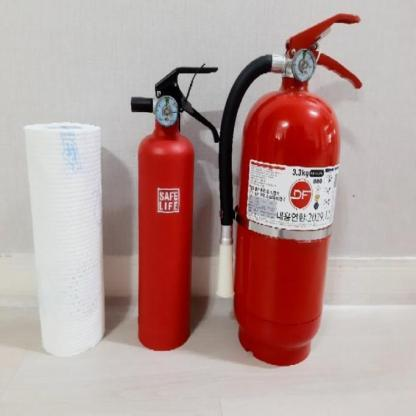Fire Extinguisher: (221, 7, 371, 373), (124, 36, 214, 363)
